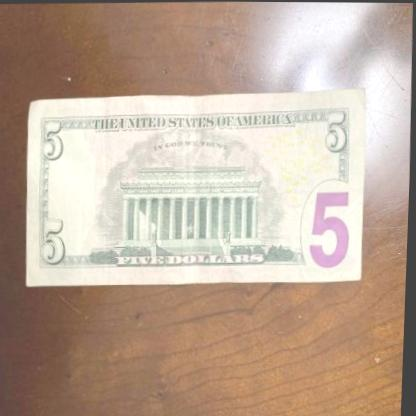five-back: (23, 83, 371, 289)
